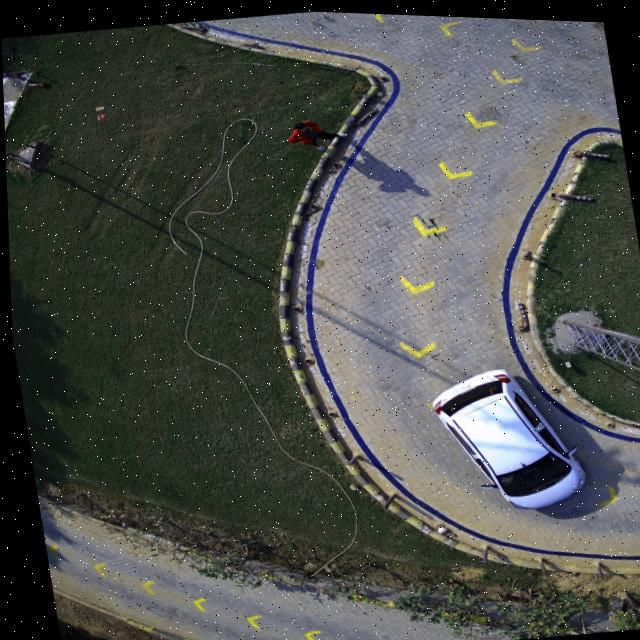car: (428, 360, 583, 505)
